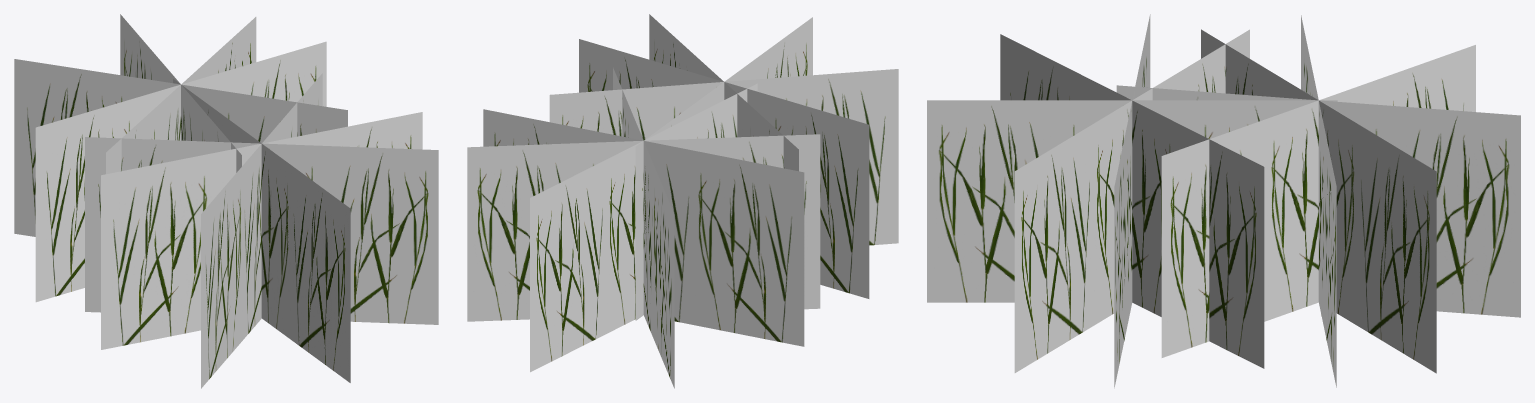
File: grass tropical3.FBX
The picture shows the model from 3 angles, left to right: view 1: azimuth 30°, elevation 25°; view 2: azimuth 150°, elevation 25°; view 3: azimuth 270°, elevation 25°; orthographic projection. The views are drawn at different scales.
Parts seen in each view (by area): view 1: grass tropical3; view 2: grass tropical3; view 3: grass tropical3.
Boxes of the visible parts, x1,y1,x2,y2 form: grass tropical3: (14,14,438,388); grass tropical3: (467,14,898,388); grass tropical3: (927,14,1520,388).
Bounding box in the file's own units: 16.5 × 9 × 23.96.
